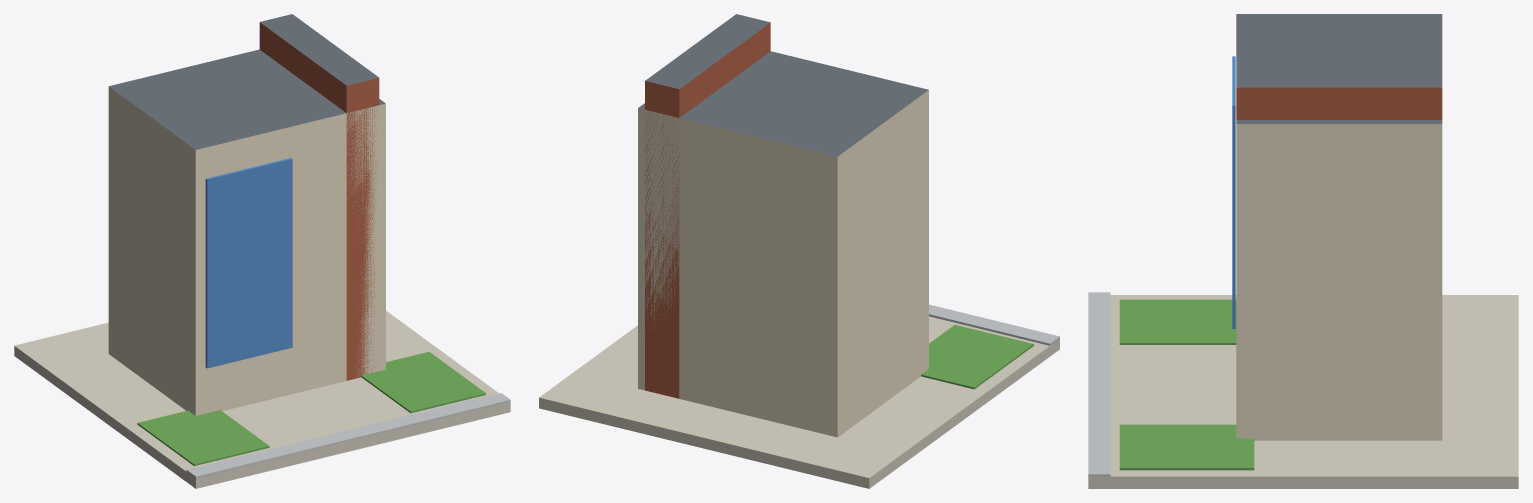
3 views of the same model, side by side, from view 1: azimuth 30°, elevation 25°; view 2: azimuth 150°, elevation 25°; view 3: azimuth 270°, elevation 25° (orthographic). The views are drawn at different scales.
Parts seen in each view (by area): view 1: b08_v2_lod2; view 2: b08_v2_lod2; view 3: b08_v2_lod2.
Part boxes in pixels (box(x1,y1,x2,y2)): b08_v2_lod2: box(14, 14, 510, 488); b08_v2_lod2: box(539, 14, 1059, 488); b08_v2_lod2: box(1088, 14, 1518, 488).
Size of the model in its own units: 0.96 by 0.89 by 0.96.
